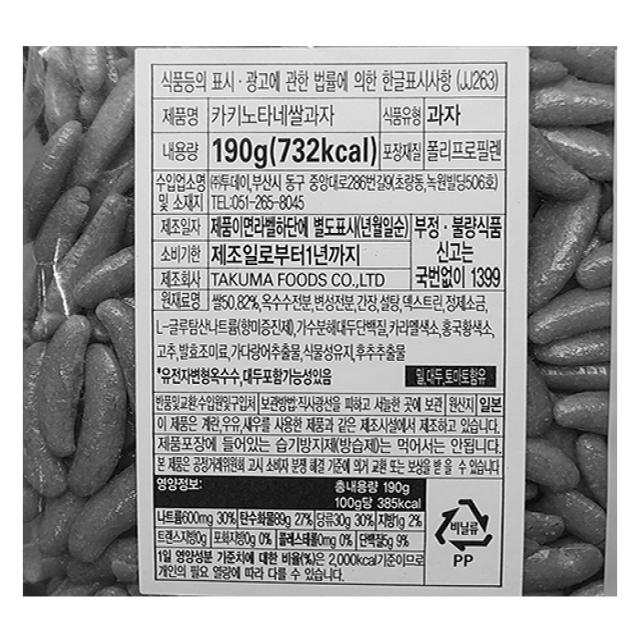Nutrition Label: (148, 467, 432, 593)
